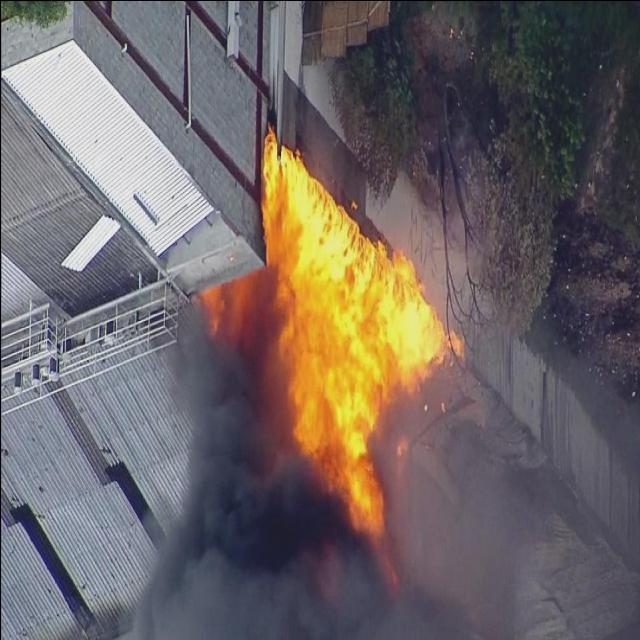Fire: (253, 128, 464, 545), (199, 278, 247, 348)
